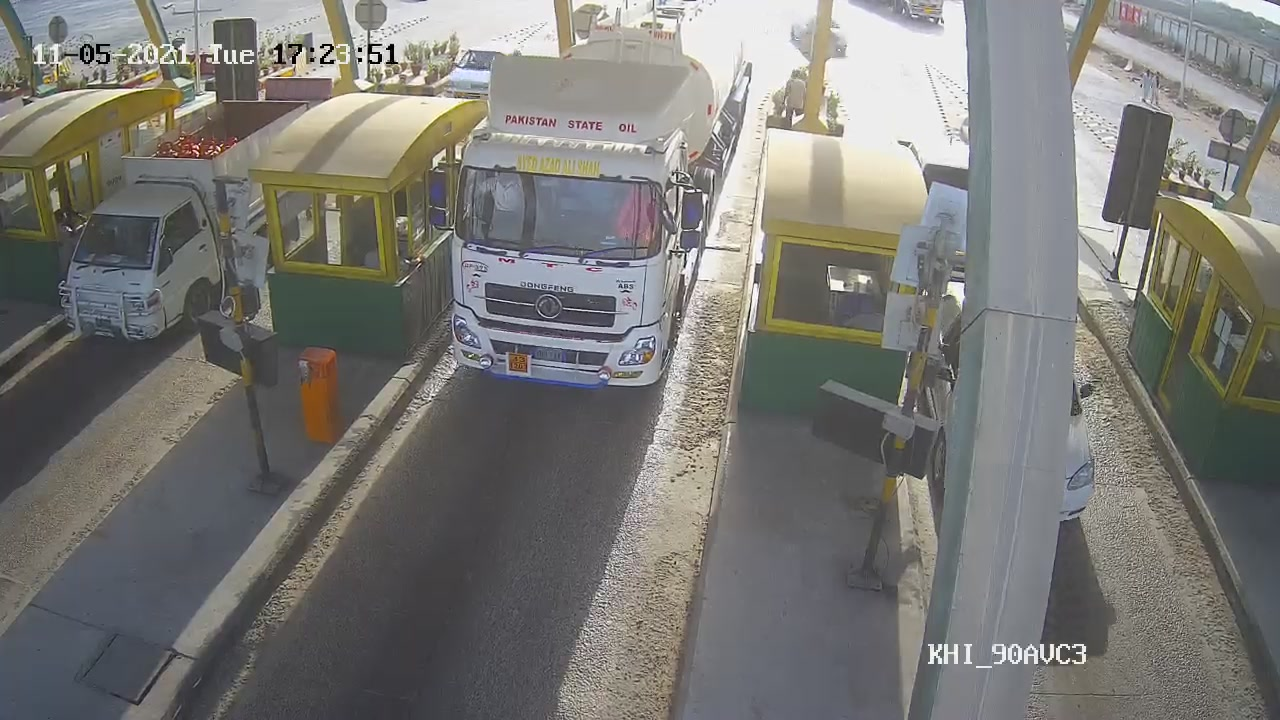F6: (440, 1, 765, 389)
